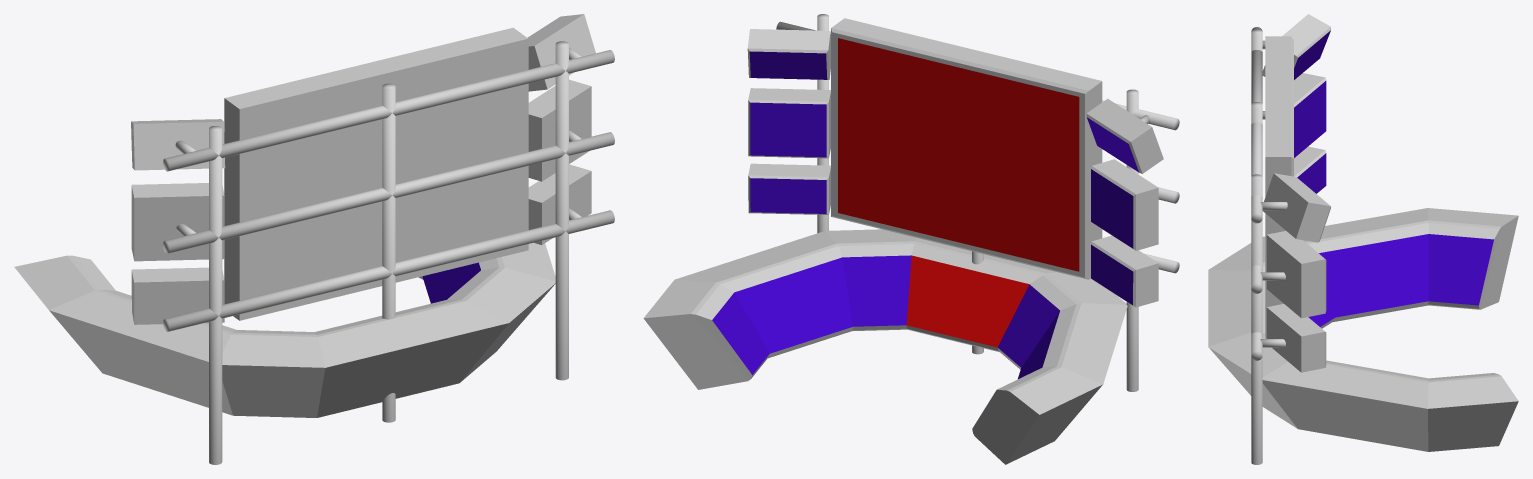
The model's file is SM_LW_WheeledTank-Interior_00.fbx.
3 views of the same model, side by side, from view 1: azimuth 30°, elevation 25°; view 2: azimuth 150°, elevation 25°; view 3: azimuth 270°, elevation 25° (orthographic). The views are drawn at different scales.
Visible parts, largest first — view 1: SM_WheeledTank_InteriorPanels; view 2: SM_WheeledTank_InteriorPanels; view 3: SM_WheeledTank_InteriorPanels.
Part boxes in pixels (x1,y1,x2,y2): SM_WheeledTank_InteriorPanels: (14,14,614,464); SM_WheeledTank_InteriorPanels: (643,14,1179,464); SM_WheeledTank_InteriorPanels: (1208,14,1518,464).
Bounding box in the file's own units: 166 × 113 × 109.
